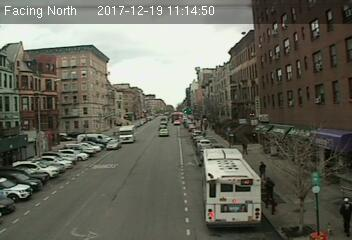bus: (202, 148, 262, 232)
car: (106, 139, 120, 150), (157, 128, 169, 136)
truck: (117, 124, 135, 141)
